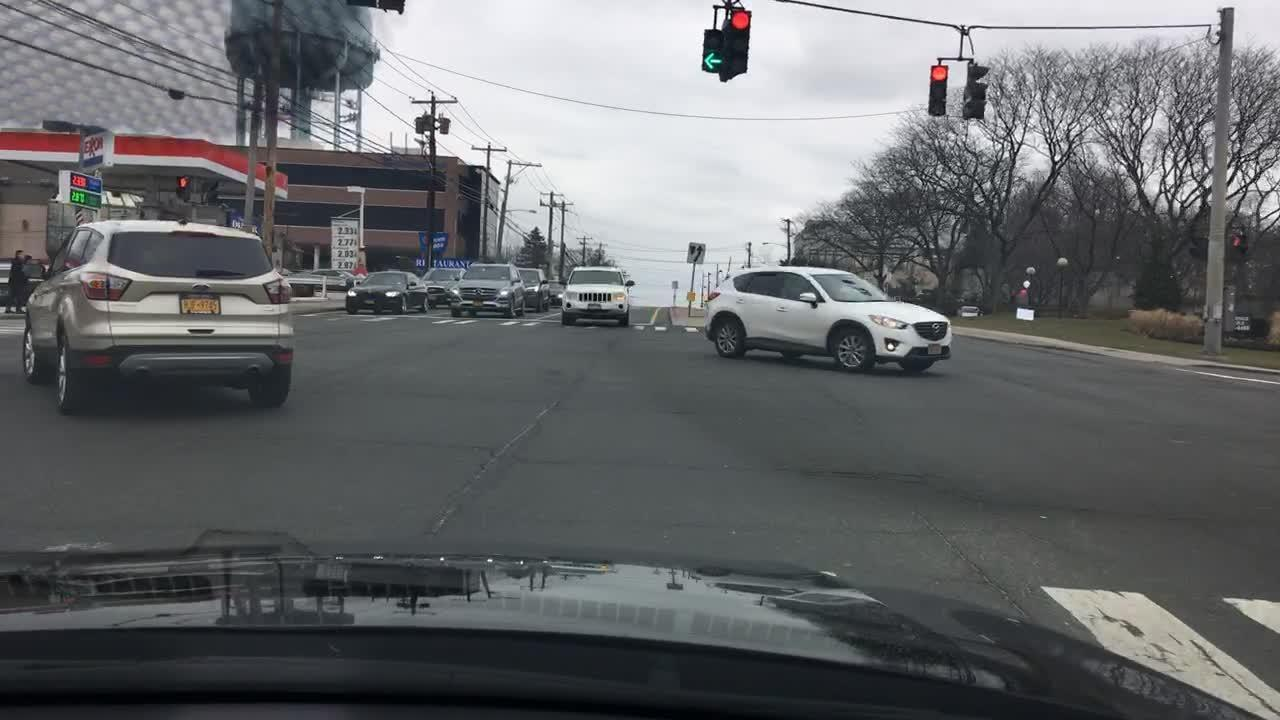Mazda: (927, 317, 945, 335)
Mercedes: (474, 288, 483, 297)
